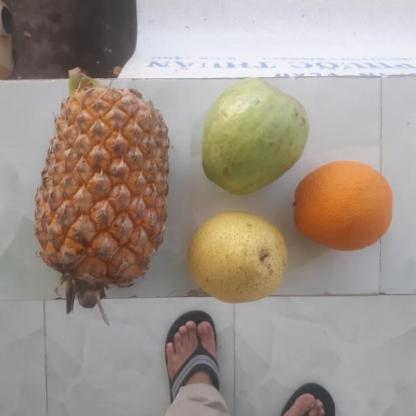guava: (197, 85, 308, 190)
orange: (290, 158, 396, 249)
pear: (182, 212, 292, 303)
pineapple: (35, 83, 167, 290)
